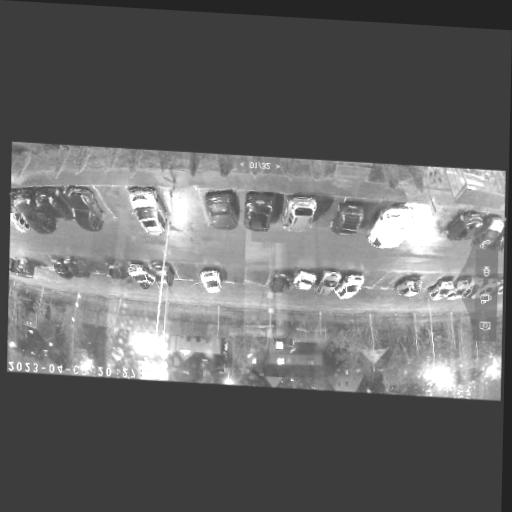busy: (10, 184, 74, 240), (368, 202, 421, 250), (123, 185, 166, 238), (65, 185, 113, 232), (202, 185, 243, 232), (239, 193, 280, 234), (329, 200, 371, 237), (471, 213, 507, 252), (284, 191, 320, 227), (193, 266, 229, 299), (123, 261, 161, 291), (48, 254, 90, 281), (449, 210, 483, 243), (335, 272, 368, 300), (425, 275, 459, 301), (291, 268, 322, 292), (395, 276, 427, 299), (268, 270, 294, 294), (453, 276, 480, 298), (320, 271, 342, 294), (104, 262, 129, 282), (155, 263, 175, 285)
free: (163, 184, 204, 225), (103, 187, 131, 217), (405, 205, 431, 235), (430, 206, 457, 234), (244, 264, 270, 289), (218, 263, 245, 287), (87, 254, 110, 275), (173, 262, 197, 279), (417, 274, 437, 293), (381, 272, 398, 290), (365, 273, 385, 287), (42, 255, 54, 269), (28, 253, 40, 267)
